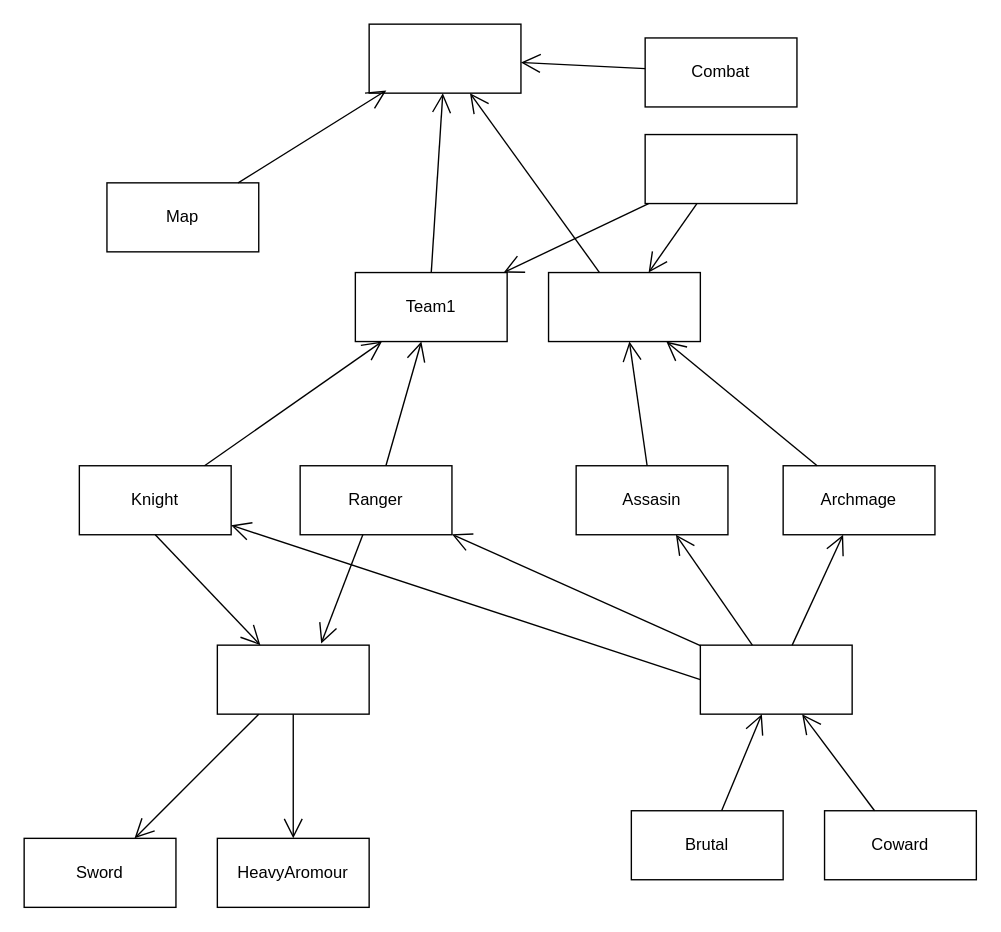
The diagram is 1001 pixels wide and 932 high, and some of its shapes have lost their labels. The box of each missing label's shape, as (x1, y1, x2, y2) in pixels:
InteligenceSetter: (699, 644, 852, 714)
InventorySetter: (216, 644, 369, 714)
Simulation: (368, 23, 521, 93)
Team2: (547, 271, 700, 342)
TeamCreator: (644, 133, 797, 204)
